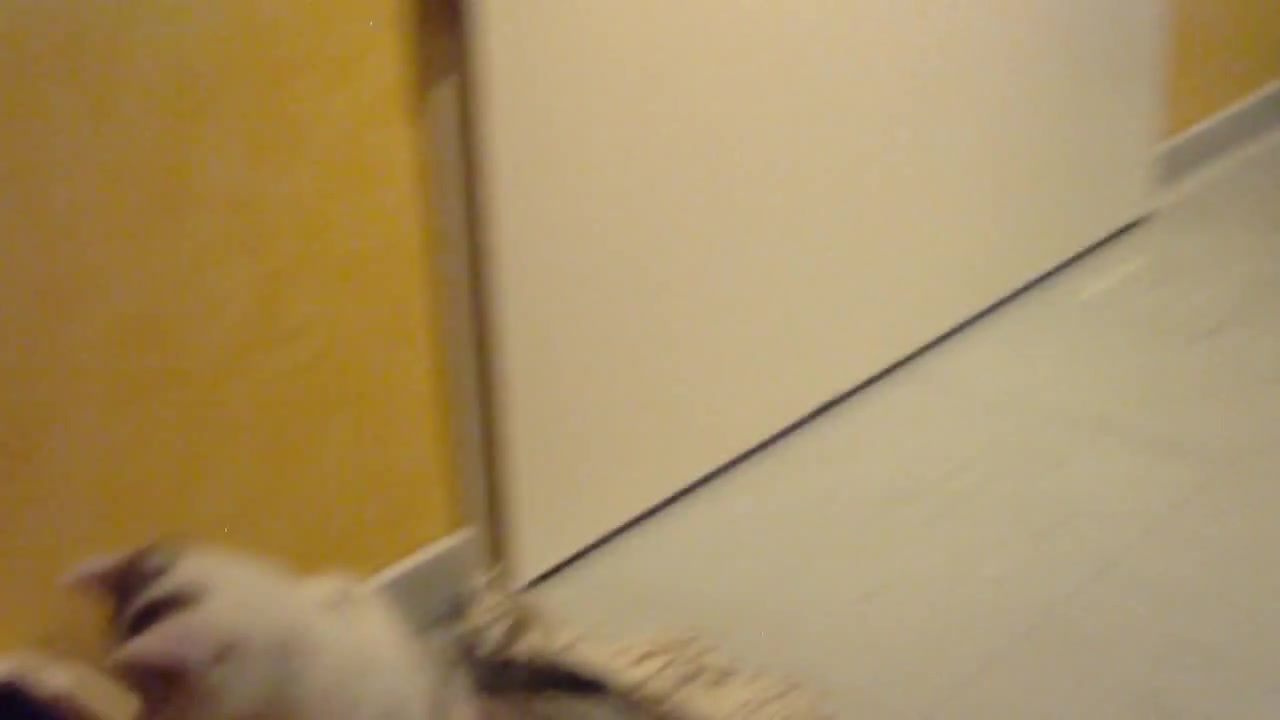cat: (4, 539, 488, 719)
